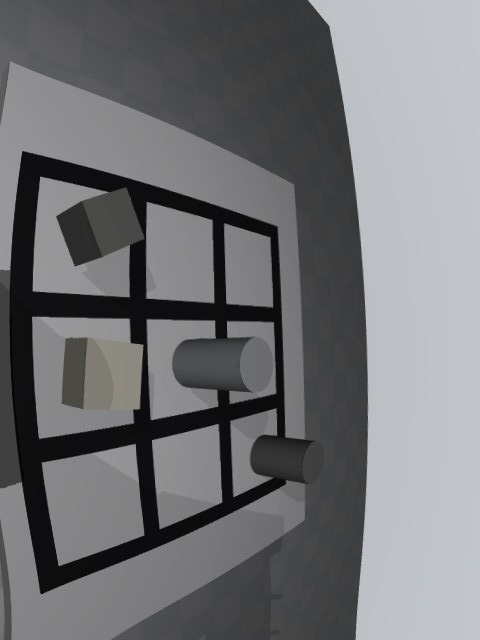can: (172, 336, 273, 393)
cube: (56, 187, 145, 266)
cylinder: (251, 434, 324, 484)
foam: (61, 338, 144, 410)
